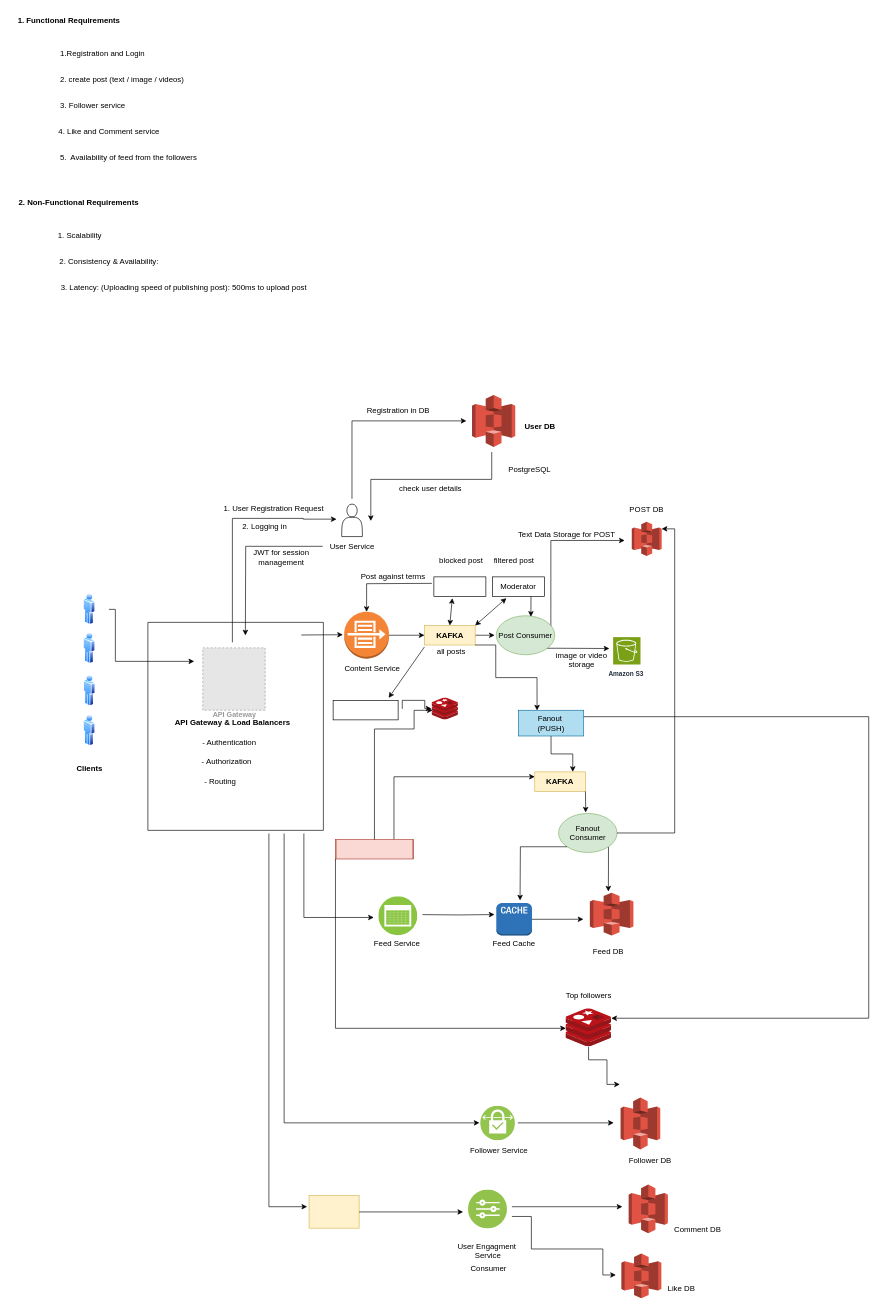
This 885x1310 diagram has some shape labels left out. Grey dashed boxes stand in for pictures. The box of each missing label's shape, as (x1, y1, x2, y2) in pixels:
BackFill: (335, 839, 413, 859)
KAFKA PRODUCER: (308, 1195, 359, 1228)
Notification: (433, 576, 486, 596)
Post Materializer: (332, 700, 398, 720)
